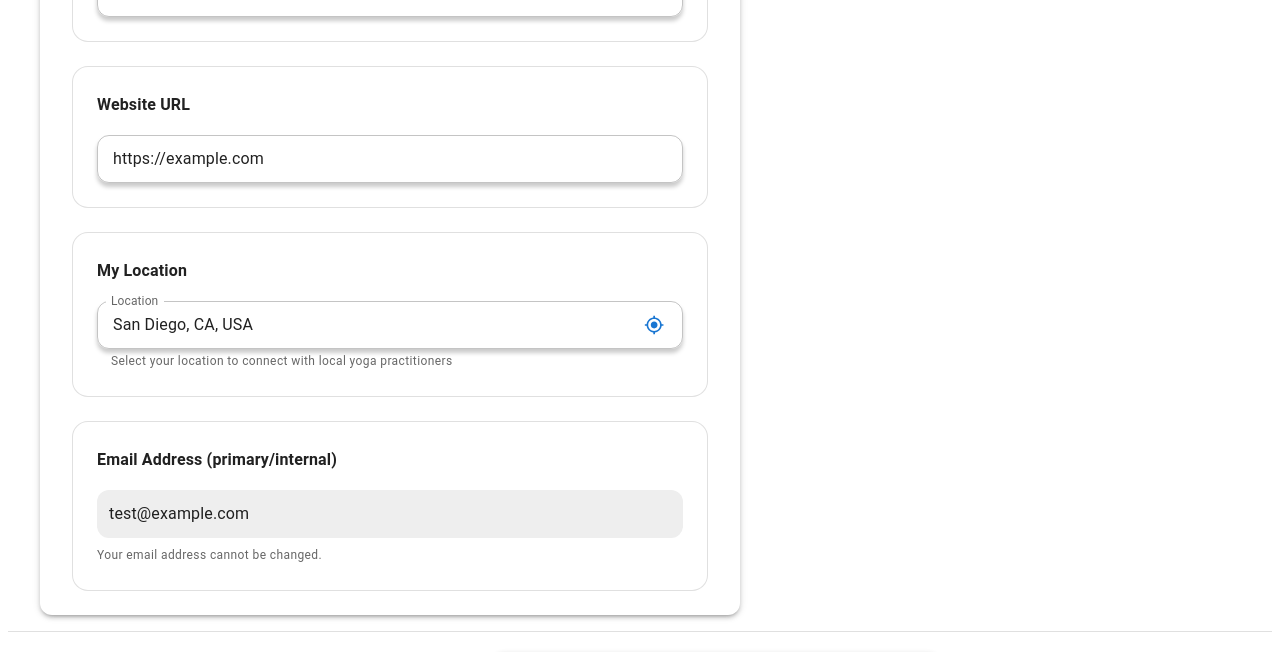
it: EditUserDetails - LocationPicker Integration › shows location chips for detailed location data
(page scrolled)
Replace the text in the field with placeholder "e.g., San Francisco, CA, USA" with "San Diego" at [368, 325], box [97,301,639,348]
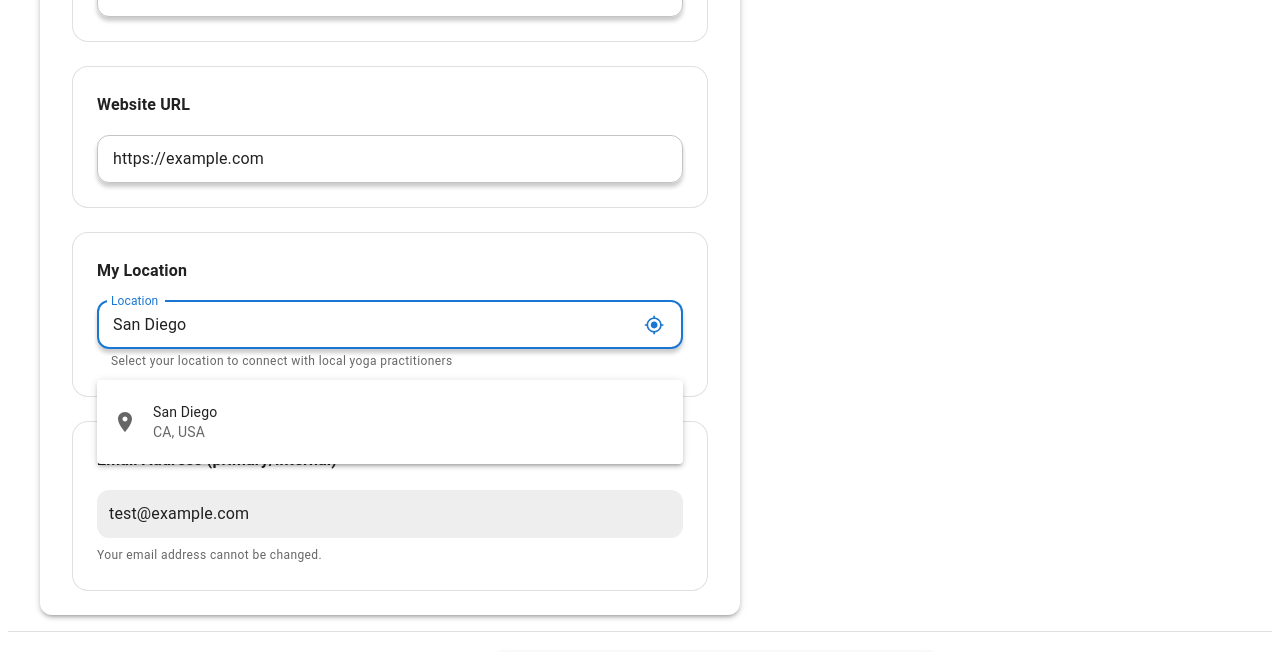
Now the text "San Diego" is shown
Now the text "CA, USA" is shown, box [153,424,205,440]
# Use mouseDown since we changed the component to use onMouseDown for immediate response
Press the mouse on the text "San Diego" at [185, 412], box [153,404,217,420]
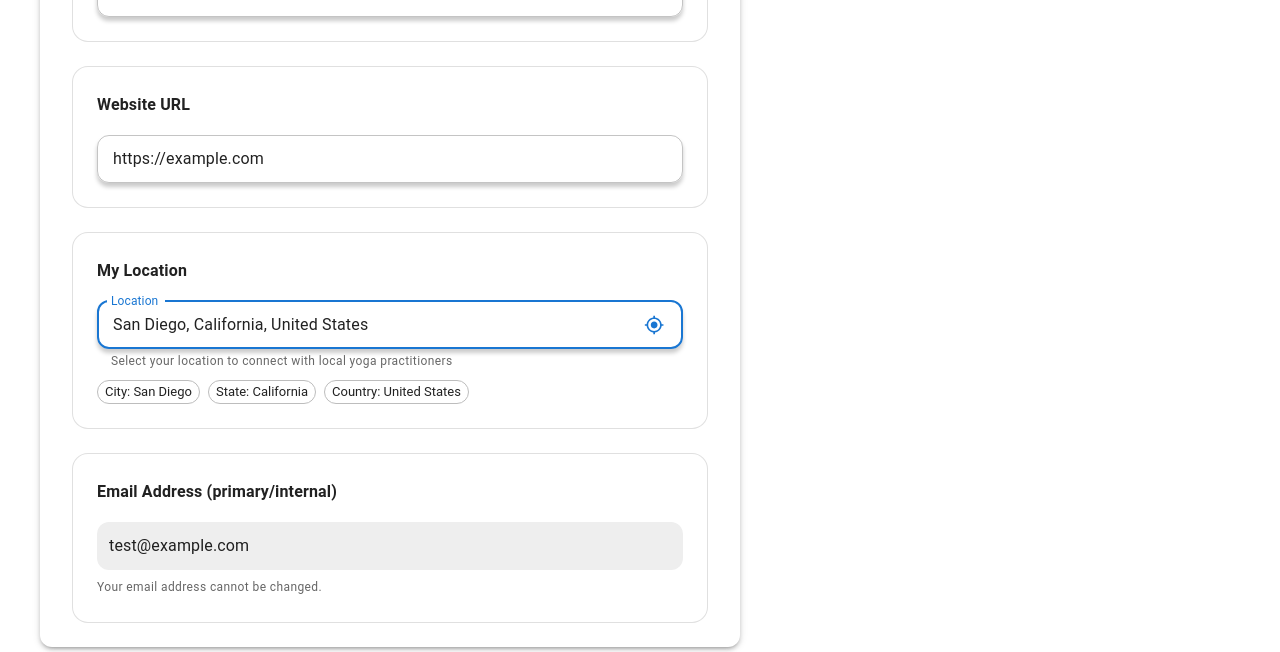
Now the text "City: San Diego" is shown, box [98,384,199,399]
Now the text "State: California" is shown, box [209,384,315,399]
Now the text "Country: United States" is shown, box [325,384,468,399]
